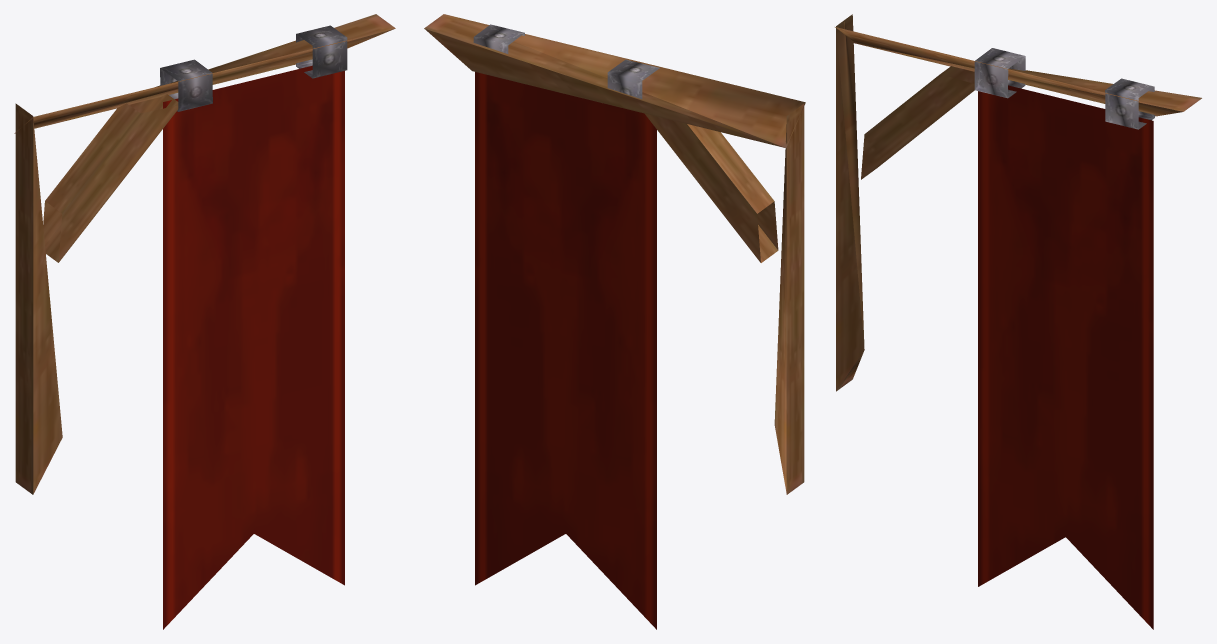
Rendered from Banner_1.low.gltf.
3 views of the same model, side by side, from view 1: azimuth 30°, elevation 25°; view 2: azimuth 150°, elevation 25°; view 3: azimuth 330°, elevation 25° (orthographic). The views are drawn at different scales.
Parts seen in each view (by area): view 1: Banner_1; view 2: Banner_1; view 3: Banner_1.
Part boxes in pixels (x1,y1,x2,y2): Banner_1: (14, 14, 395, 629); Banner_1: (424, 14, 805, 629); Banner_1: (835, 14, 1201, 629).
Size of the model in its own units: 1.61 by 2.37 by 0.1526.
3 materials, 3 textured.
